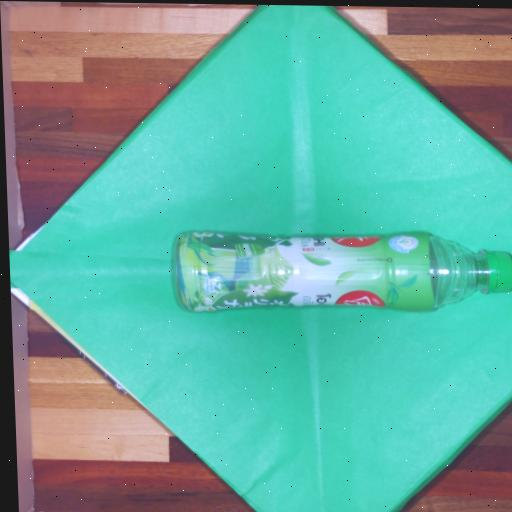bottle: (147, 216, 512, 321)
